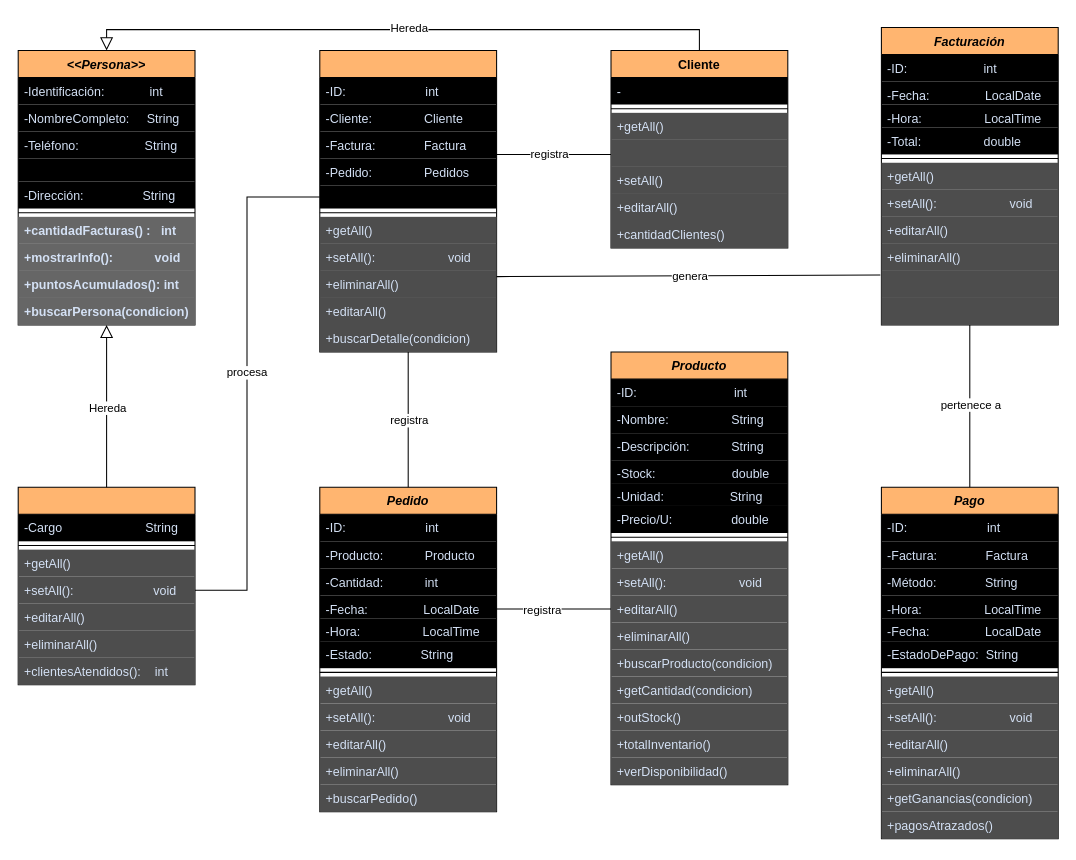
The diagram is 1076 pixels wide and 860 high, and some of its shapes have lost their labels. Here are the shapes that lost their labels. From the top down, the box of each, then its label:
(18, 158, 194, 181): -Correo: String
(610, 139, 787, 166): +eliminarAll(): void
(319, 185, 496, 208): -Empleado: Empleado
(319, 49, 497, 352): Detalle_Transacción
(881, 270, 1058, 297): +buscarFactura(condicion)
(881, 297, 1058, 324): +cantidadFacturas()
(17, 486, 195, 685): Empleado
